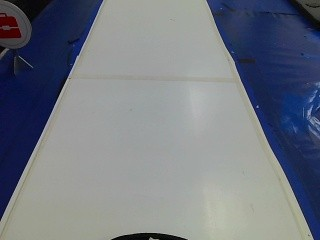company: (0, 0, 27, 51)
